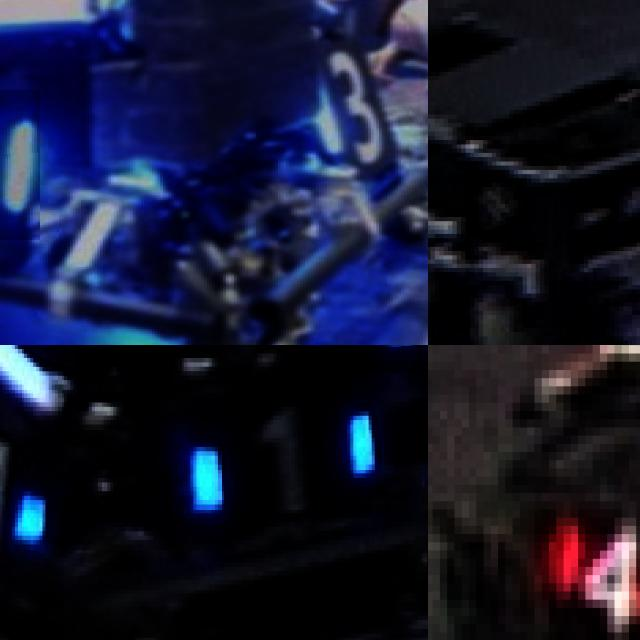B1: (181, 400, 381, 529), (0, 429, 40, 558), (314, 345, 422, 373)
B3: (0, 89, 39, 240)
R4: (549, 493, 640, 640)
